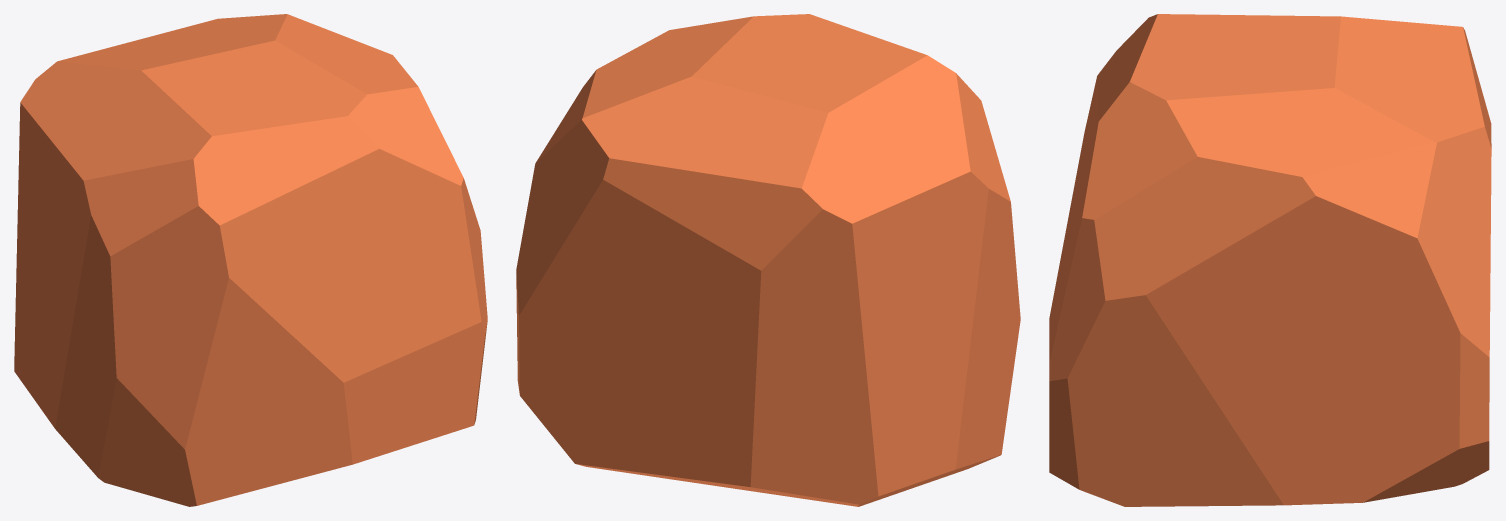
3 renders of one model, left to right at view 1: azimuth 30°, elevation 25°; view 2: azimuth 150°, elevation 25°; view 3: azimuth 270°, elevation 25°, orthographic. The views are drawn at different scales.
Visible parts, largest first — view 1: Rock_1; view 2: Rock_1; view 3: Rock_1.
Part boxes in pixels (bbox=[...]): Rock_1: bbox=[14, 14, 487, 506]; Rock_1: bbox=[516, 14, 1020, 506]; Rock_1: bbox=[1049, 14, 1491, 506].
Size of the model in its own units: 343 by 346 by 342.
